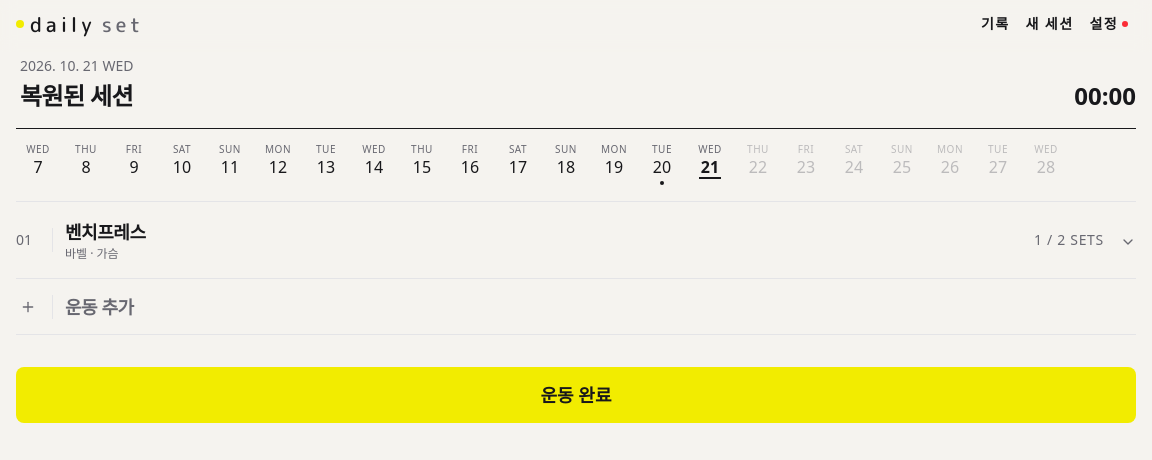
Test: RootClient — 기록(History) › 지난 날짜를 누르면 그날의 기록이 보이고, 오늘을 누르면 세션 화면으로 돌아온다
Expected: the button "운동 완료" is shown, [16,367,1136,423]
Click the button "TUE 20" at (662, 163), box [640,141,684,185]
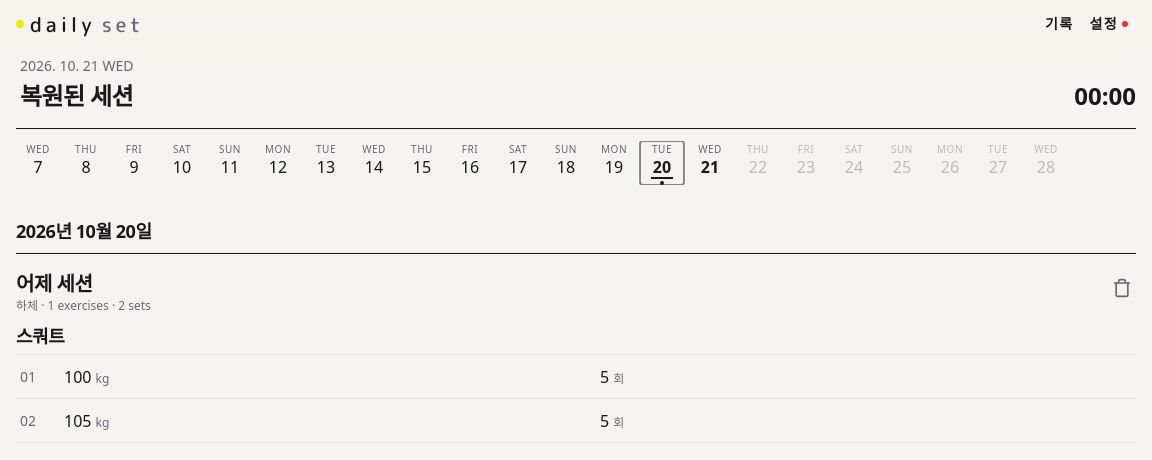
Expected: the heading "어제 세션" is shown, [16,270,92,297]
Expected: the button "운동 완료" is gone
Click the button "WED 21" at (710, 163), box [688,141,732,185]
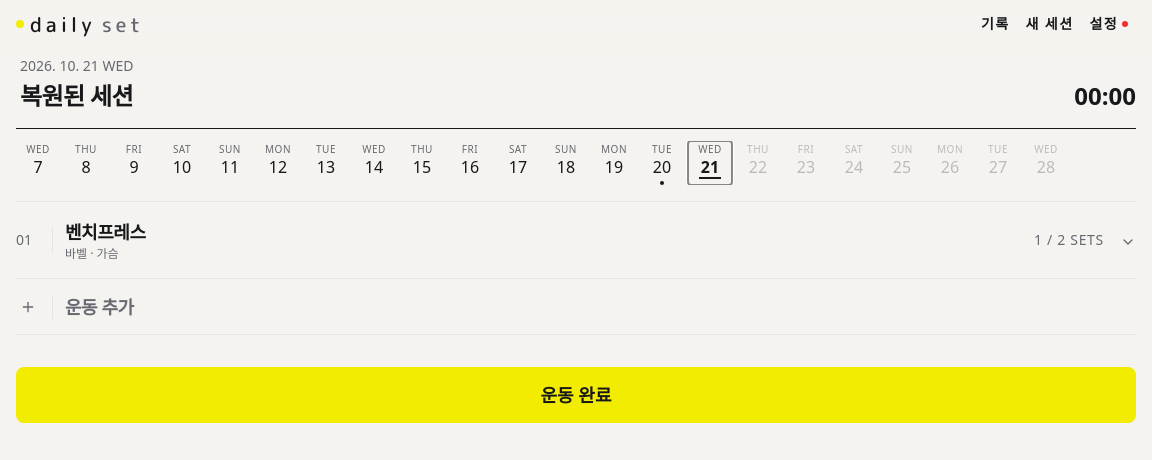
Expected: the button "운동 완료" is shown, [16,367,1136,423]
Expected: the heading "어제 세션" is gone
